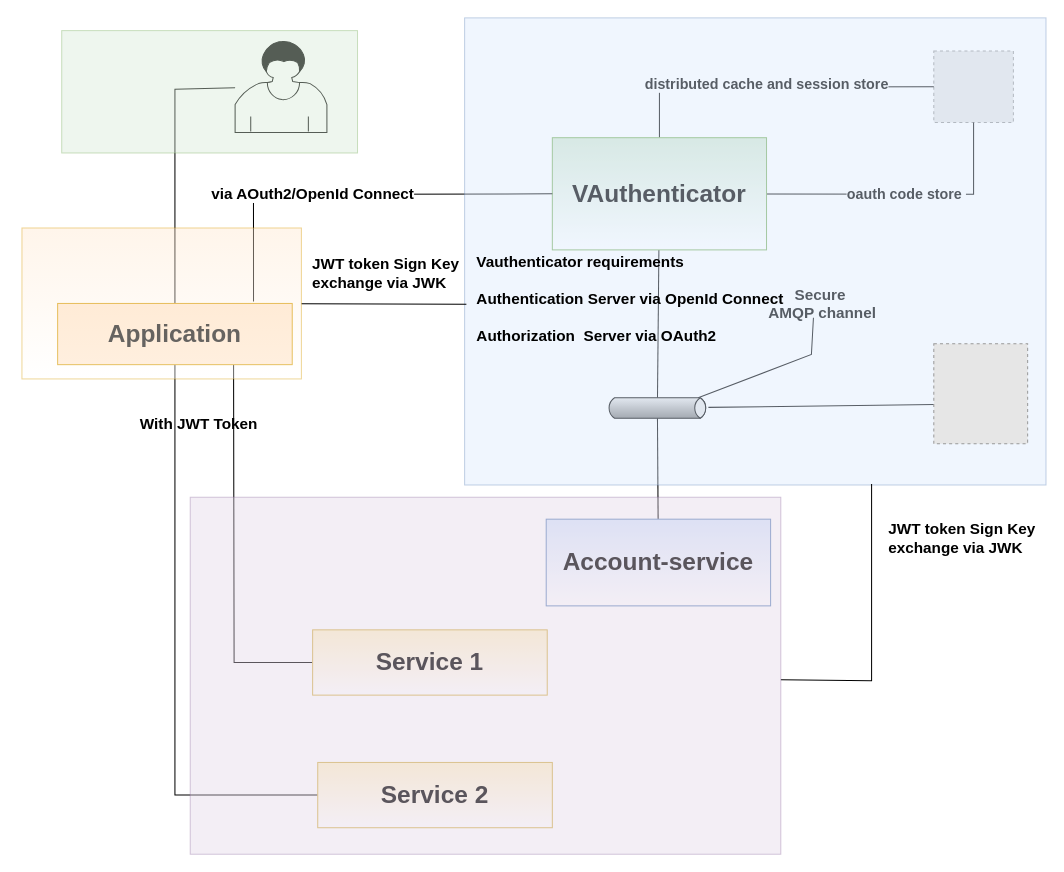
This 1064x872 diagram has some shape labels left out. Grey dashed boxes stand in for pictures. The shapes that lost their labels are listed below. From the top down, each one's centre as x and y in pixels, then its label:
[209,91]: Resource Owner
[161,303]: Client Application
[485,675]: Resource Server
